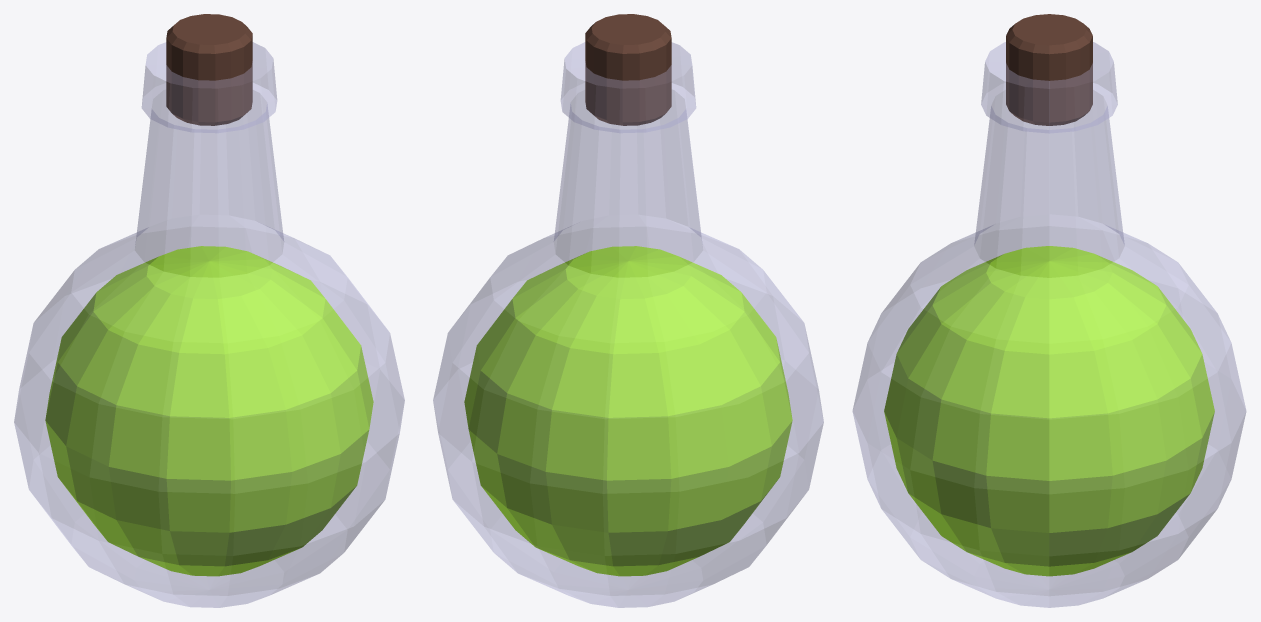
File: POTION revised.fbx
3 renders of one model, left to right at view 1: azimuth 30°, elevation 25°; view 2: azimuth 150°, elevation 25°; view 3: azimuth 270°, elevation 25°, orthographic.
Visible parts, largest first — view 1: new potion; view 2: new potion; view 3: new potion.
Part boxes in pixels (x1=…): new potion: x1=14, y1=14, x2=404, y2=607; new potion: x1=433, y1=14, x2=823, y2=607; new potion: x1=852, y1=14, x2=1246, y2=607.
Bounding box in the file's own units: 0.7794 × 0.7794 × 1.22.
